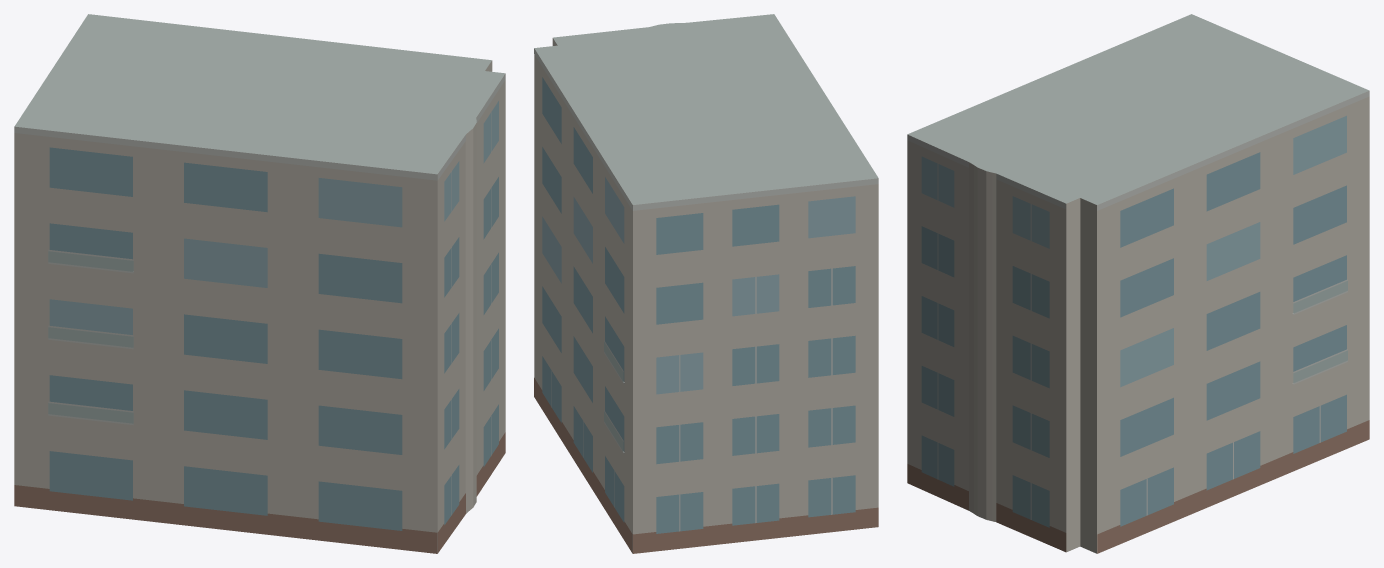
File: survey-upis-32947133.glb
3 views of the same model, side by side, from view 1: azimuth 30°, elevation 25°; view 2: azimuth 150°, elevation 25°; view 3: azimuth 270°, elevation 25° (orthographic). The views are drawn at different scales.
Visible parts, largest first — view 1: survey-upis-32947133.tmp; view 2: survey-upis-32947133.tmp; view 3: survey-upis-32947133.tmp.
Part boxes in pixels (x1=…): survey-upis-32947133.tmp: x1=14, y1=14, x2=505, y2=553; survey-upis-32947133.tmp: x1=534, y1=14, x2=878, y2=553; survey-upis-32947133.tmp: x1=907, y1=14, x2=1369, y2=553.
Bounding box in the file's own units: 17.29 × 14.7 × 17.67.
